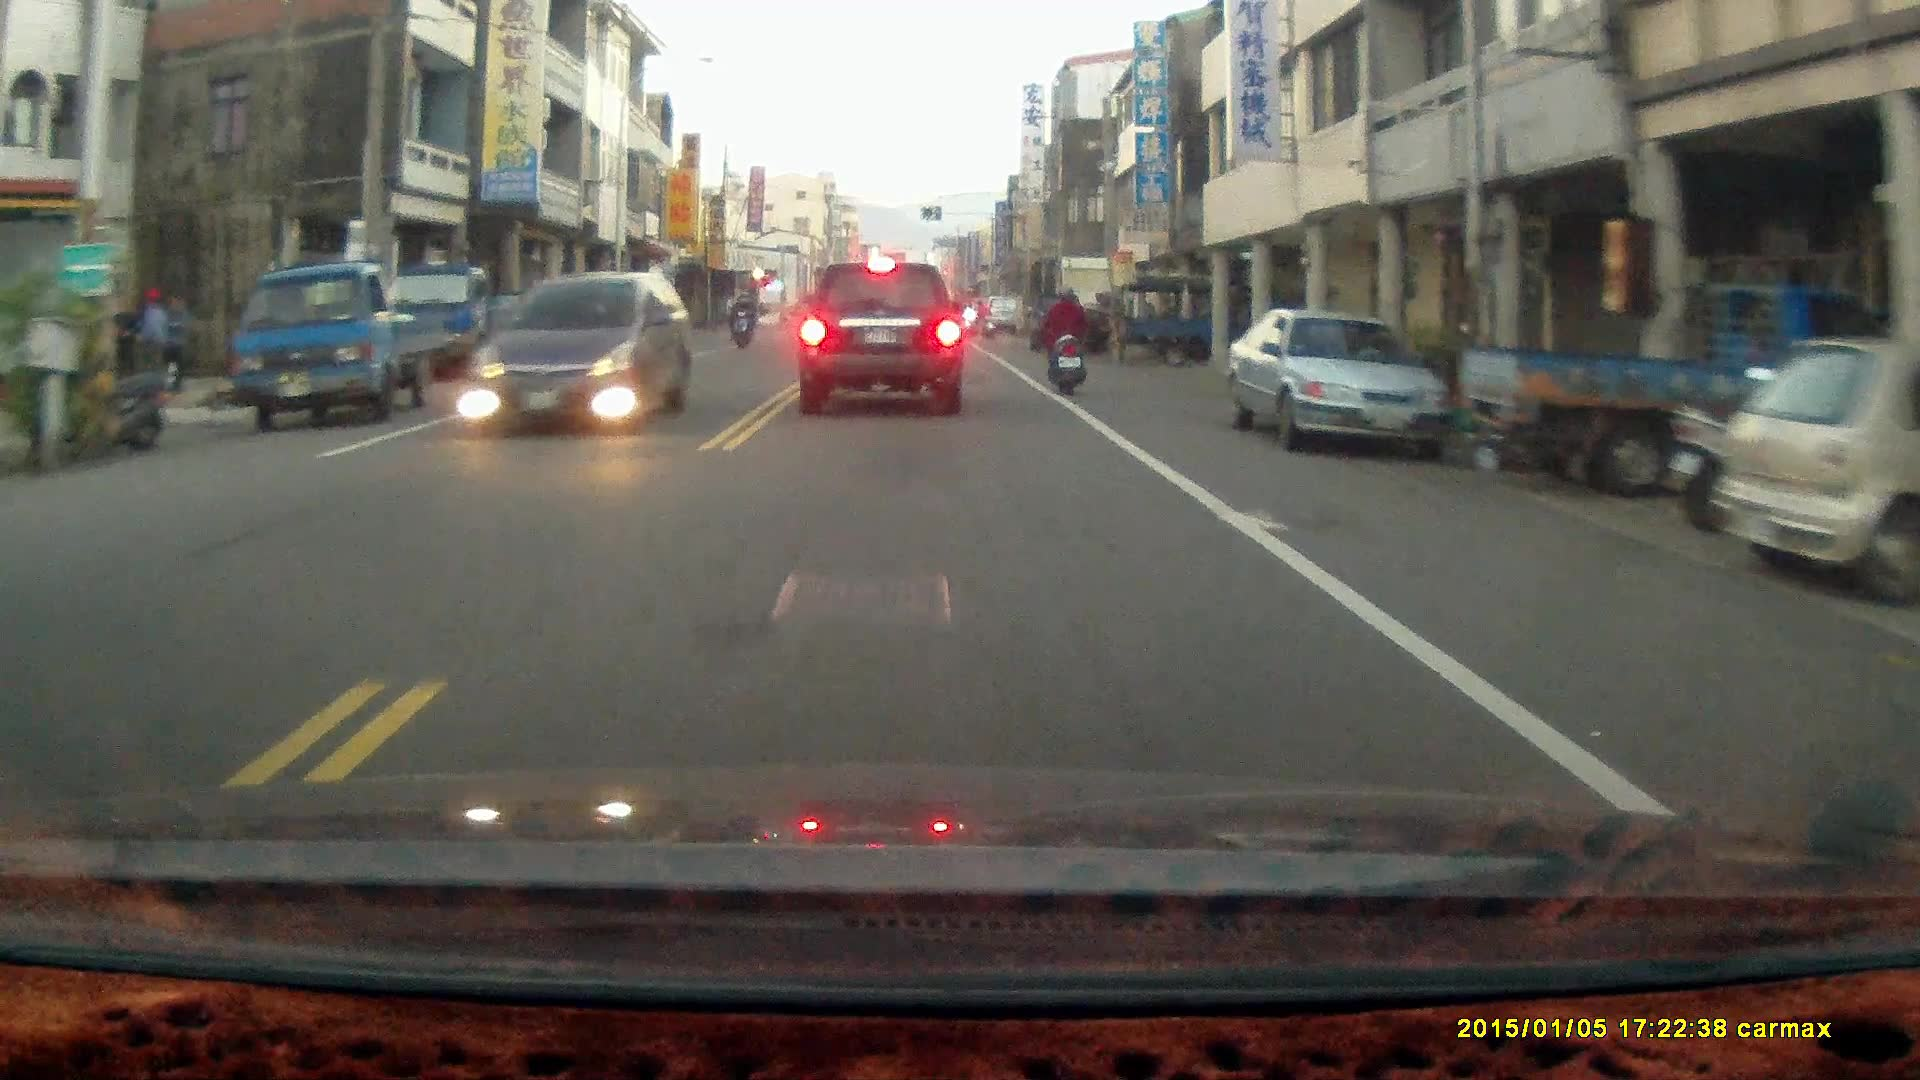pedestrian: (136, 286, 167, 398), (164, 290, 195, 394), (110, 295, 139, 389)
rider: (1041, 282, 1087, 396), (726, 294, 754, 351), (963, 298, 997, 341)
vehicle: (1447, 275, 1846, 499), (1706, 332, 1920, 599), (229, 261, 458, 433), (473, 273, 693, 438), (1226, 312, 1450, 456), (794, 259, 966, 423), (385, 253, 543, 372), (1121, 274, 1297, 366)
